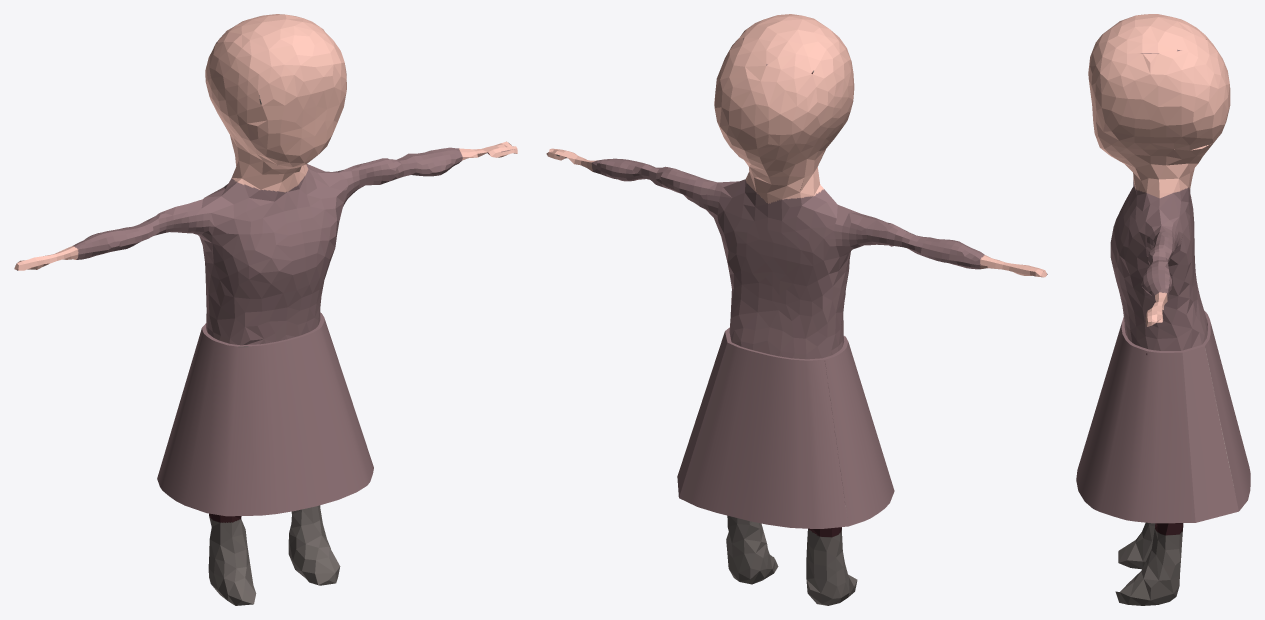
The model's file is girl_0.fbx.
3 renders of one model, left to right at view 1: azimuth 30°, elevation 25°; view 2: azimuth 150°, elevation 25°; view 3: azimuth 270°, elevation 25°, orthographic.
Visible parts, largest first — view 1: girl_0_skirt; view 2: girl_0_skirt; view 3: girl_0_skirt.
Part boxes in pixels (box(x1,y1,x2,y2)): girl_0_skirt: box(14, 14, 517, 605); girl_0_skirt: box(546, 14, 1047, 605); girl_0_skirt: box(1076, 14, 1250, 605).
Bounding box in the file's own units: 290 × 314 × 87.91.
1 material, 1 textured.
